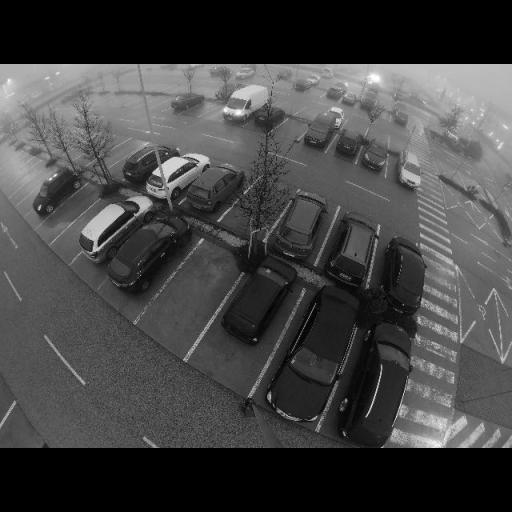busy: (268, 276, 364, 430), (352, 320, 420, 440), (212, 262, 296, 348), (109, 217, 187, 290), (76, 200, 144, 264), (268, 189, 329, 259), (381, 234, 435, 312), (330, 212, 379, 282), (149, 153, 206, 199), (187, 164, 240, 212), (31, 172, 79, 217), (122, 144, 172, 180), (221, 86, 270, 120), (394, 152, 428, 188), (304, 113, 338, 146), (360, 138, 392, 171), (336, 132, 364, 158), (172, 92, 204, 113), (256, 106, 286, 128), (294, 79, 312, 94), (342, 91, 358, 106), (360, 98, 376, 113)
free: (175, 272, 222, 310), (242, 186, 278, 222), (59, 200, 85, 220), (66, 220, 89, 242), (200, 100, 222, 122), (114, 146, 136, 160), (24, 172, 46, 186), (282, 121, 300, 137)
